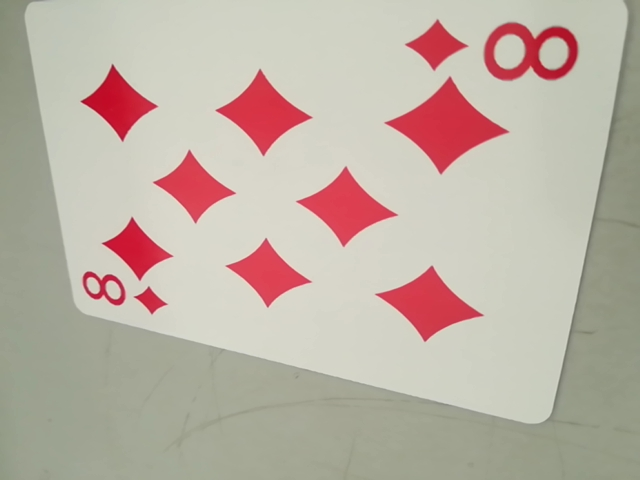fk 8: (405, 15, 578, 87), (77, 267, 166, 319)
